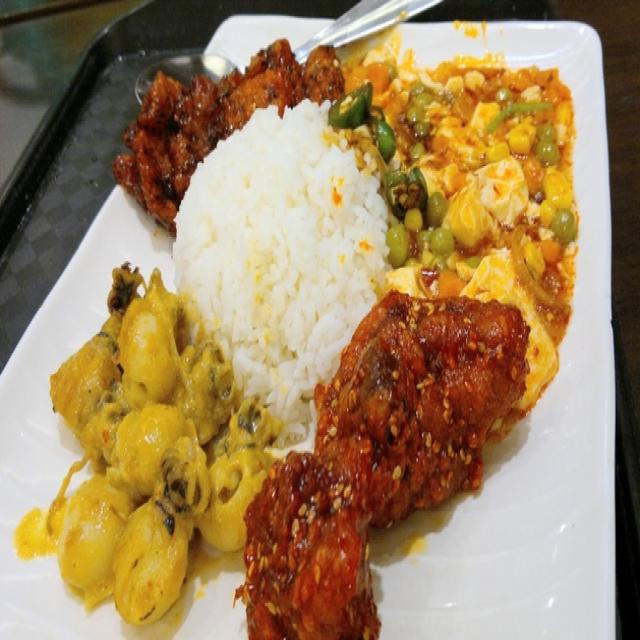米饭主食: (15, 21, 593, 625)
